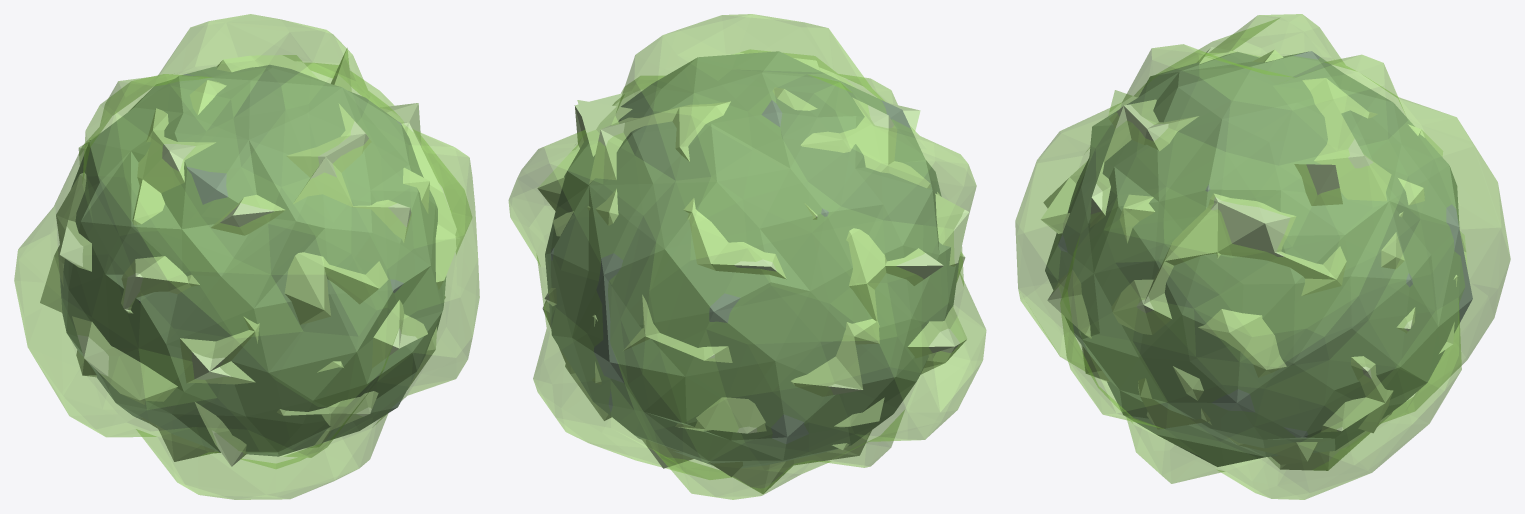
Rendered from gas_planet5.fbx.
3 views of the same model, side by side, from view 1: azimuth 30°, elevation 25°; view 2: azimuth 150°, elevation 25°; view 3: azimuth 270°, elevation 25° (orthographic). The views are drawn at different scales.
Visible parts, largest first — view 1: gas_planet5; view 2: gas_planet5; view 3: gas_planet5.
Boxes of the visible parts, <box> form: gas_planet5: <box>14,14,479,499</box>; gas_planet5: <box>508,14,986,499</box>; gas_planet5: <box>1015,14,1510,499</box>.
Size of the model in its own units: 230 by 229 by 238.
